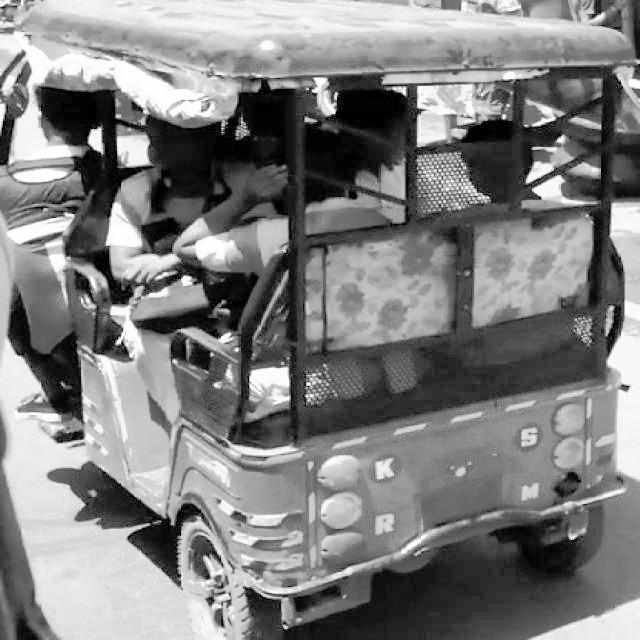Toto: (4, 6, 628, 640)
